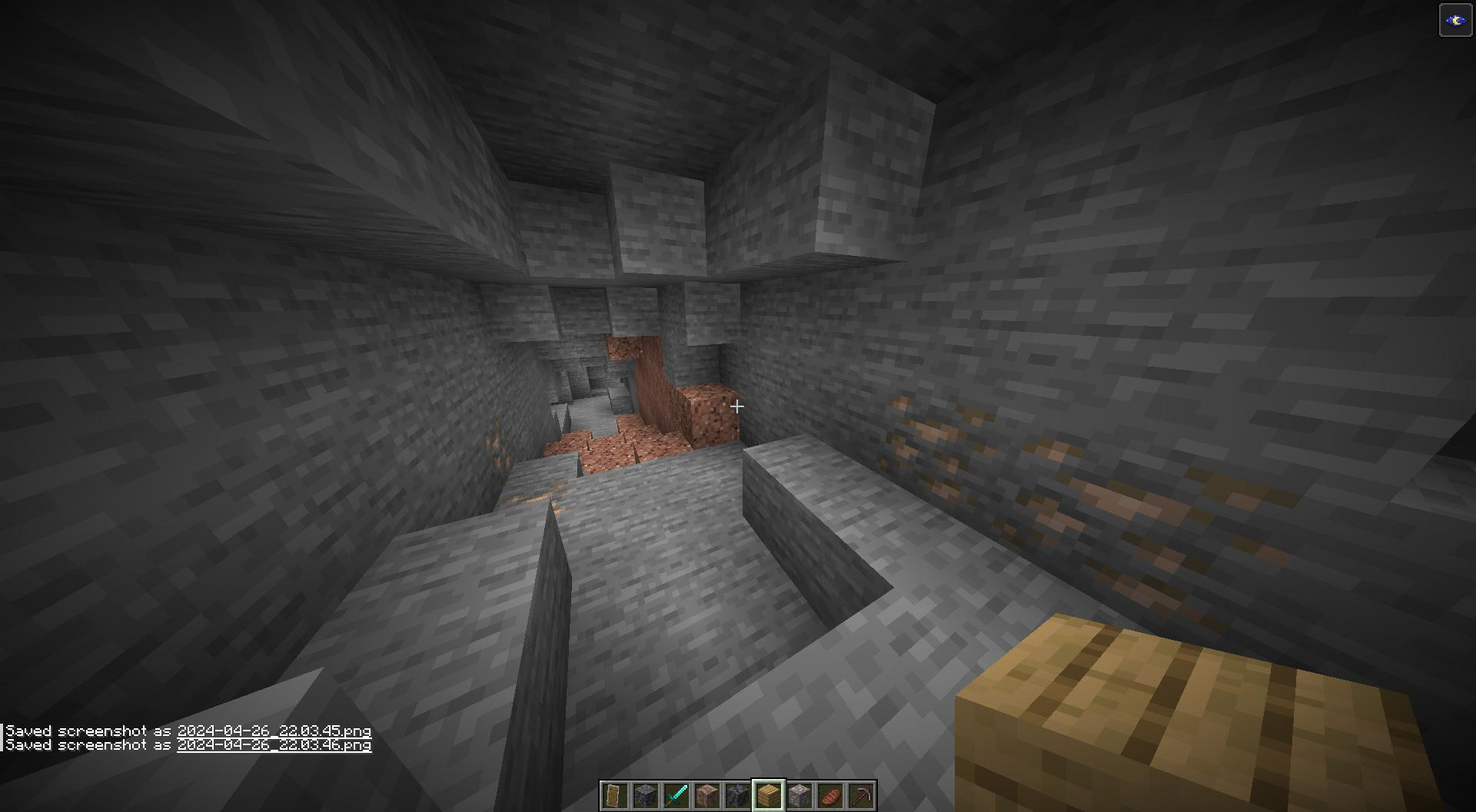iron ore: (999, 425, 1270, 633), (873, 384, 991, 500), (487, 478, 578, 515), (473, 418, 512, 473)
